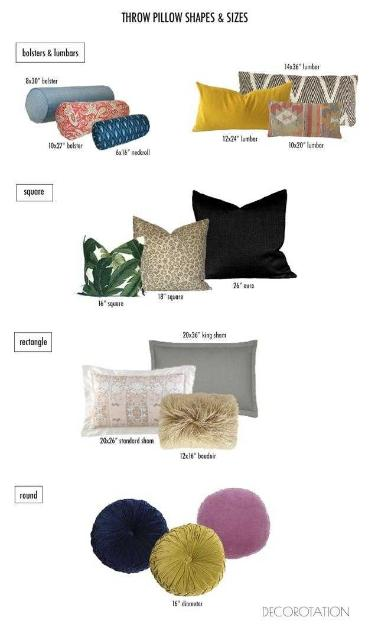pillow: (191, 188, 296, 278), (149, 338, 259, 418), (82, 364, 197, 436), (132, 214, 212, 292), (192, 80, 292, 132)
